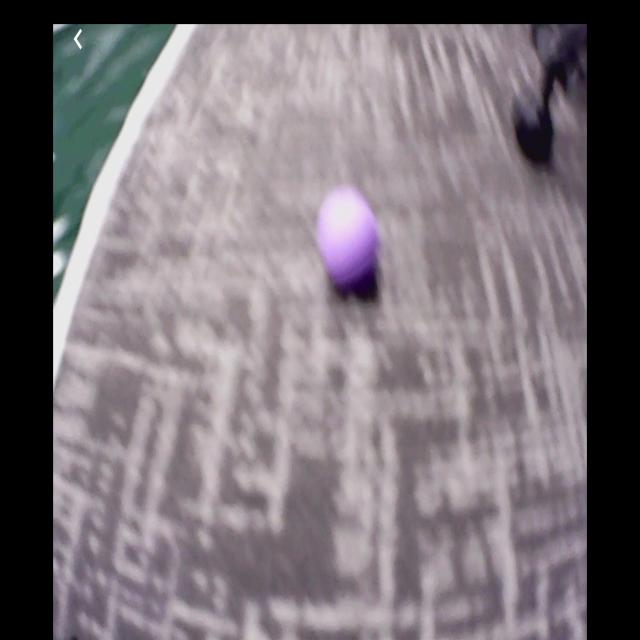ball: (321, 188, 378, 288)
